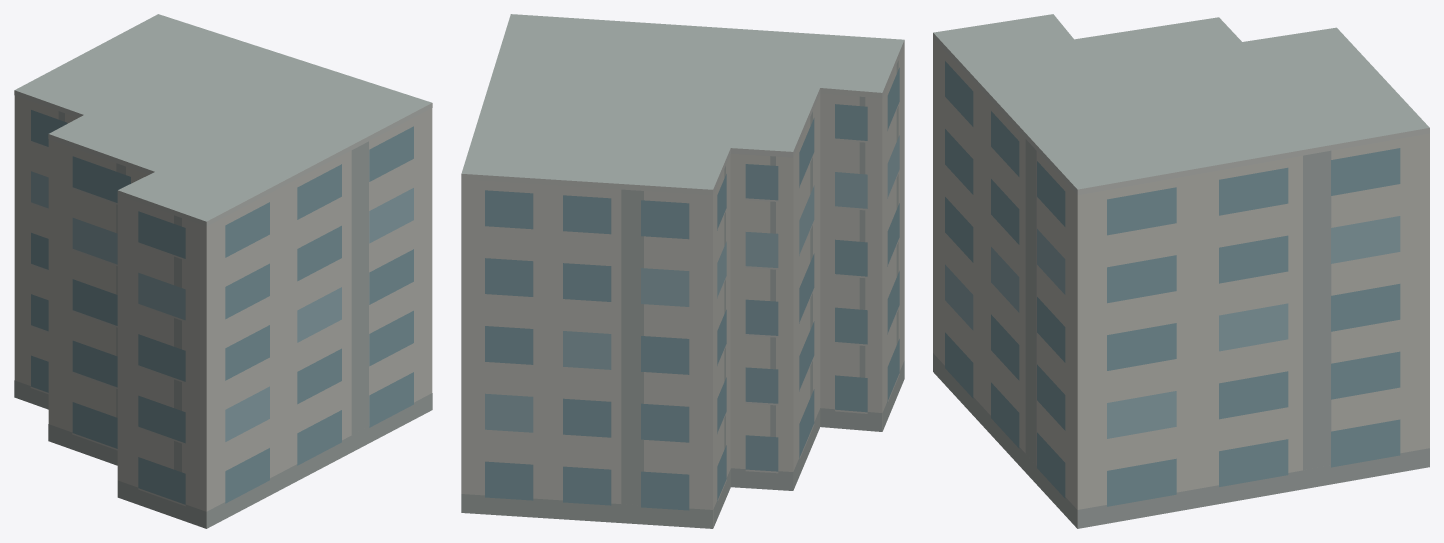
File: survey-upis-32565122.glb
3 views of the same model, side by side, from view 1: azimuth 30°, elevation 25°; view 2: azimuth 150°, elevation 25°; view 3: azimuth 270°, elevation 25° (orthographic). The views are drawn at different scales.
Parts seen in each view (by area): view 1: survey-upis-32565122.tmp; view 2: survey-upis-32565122.tmp; view 3: survey-upis-32565122.tmp.
Part boxes in pixels (x1=…): survey-upis-32565122.tmp: x1=14, y1=14, x2=432, y2=528; survey-upis-32565122.tmp: x1=461, y1=14, x2=904, y2=528; survey-upis-32565122.tmp: x1=933, y1=14, x2=1429, y2=528.
Size of the model in its own units: 16.38 by 14.75 by 19.58.
